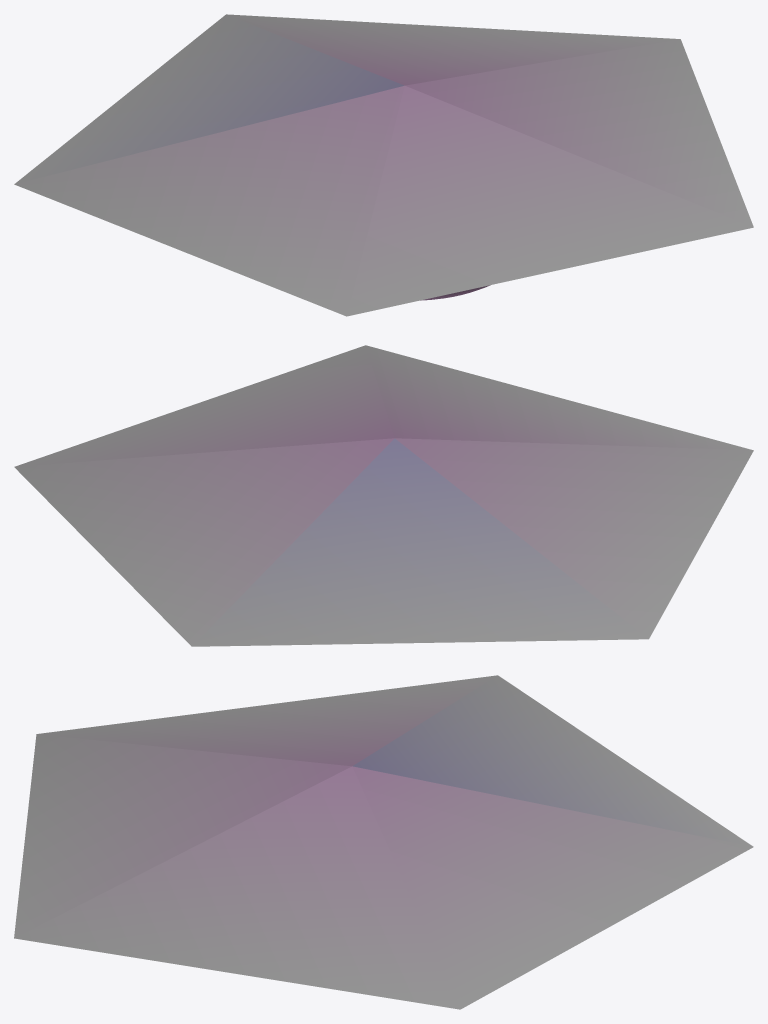
The picture shows the model from 3 angles, top to bottom: view 1: azimuth 30°, elevation 25°; view 2: azimuth 150°, elevation 25°; view 3: azimuth 270°, elevation 25°; orthographic projection. The views are drawn at different scales.
Parts seen in each view (by area): view 1: angular_cap; view 2: angular_cap; view 3: angular_cap.
Part boxes in pixels (box(x1,y1,x2,y2)): angular_cap: box(14, 14, 753, 316); angular_cap: box(14, 345, 753, 646); angular_cap: box(14, 675, 753, 1009).
Bounding box in the file's own units: 12.37 × 3.35 × 11.57.
